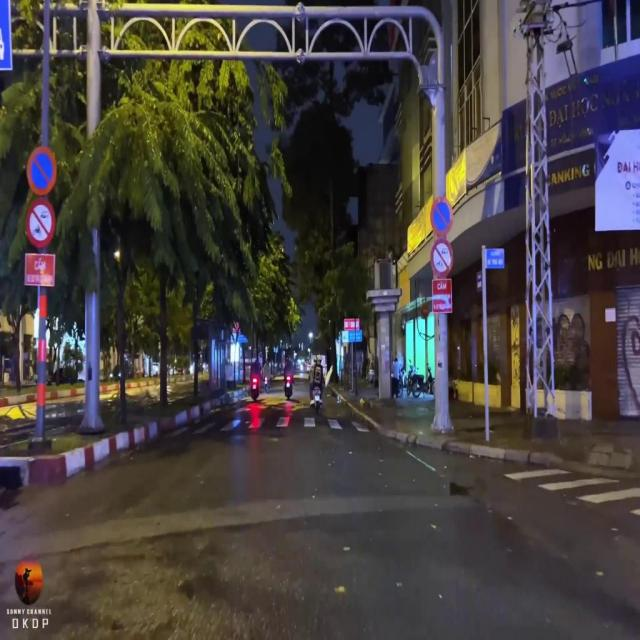cam_cac_loai_xe_3_banh: (431, 239, 454, 278)
cam_dung_xe_va_do_xe: (27, 144, 56, 196), (432, 197, 454, 236)
cam_xe_2_banh_va_xe_3_banh_co_dong_co: (26, 198, 56, 248)
